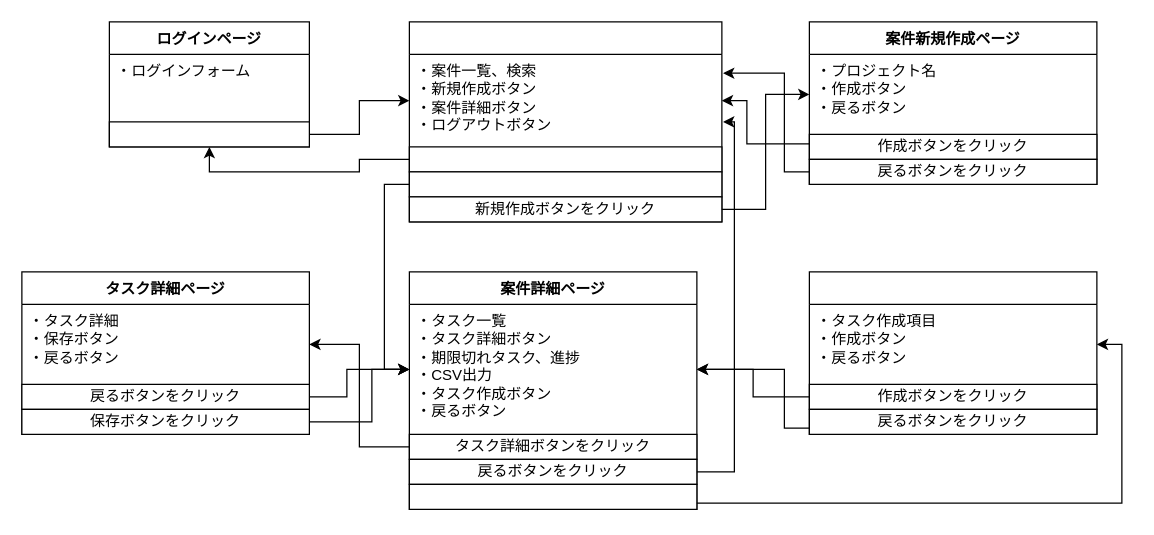
The diagram is 1154 pixels wide and 535 high, and some of its shapes have lost their labels. Each missing label, with the box of its shape:
タスク作成ボタンをクリック: (408, 483, 697, 509)
タスク新規作成ページ: (808, 271, 1097, 434)
ログイン: (108, 121, 309, 147)
ロブアウトボタンをクリック: (408, 146, 722, 172)
案件一覧ページ（リーダー）: (408, 21, 722, 222)
案件詳細ボタンをクリック: (408, 171, 722, 197)
